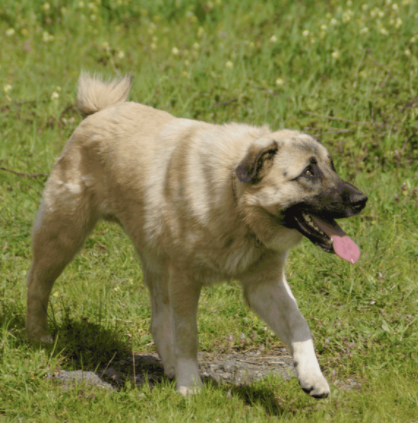dog: (26, 73, 368, 390)
